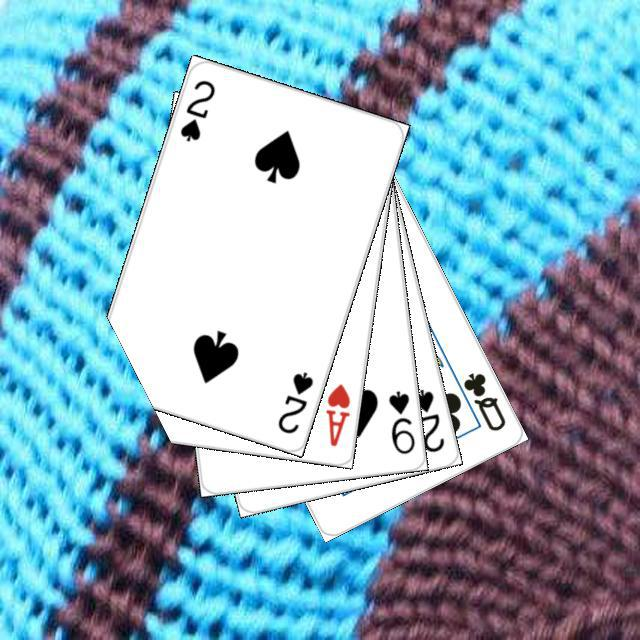2s: (272, 367, 315, 436), (175, 75, 217, 143), (408, 384, 446, 454)
9s: (383, 386, 417, 456)
Ah: (321, 378, 352, 448)
Qc: (448, 367, 508, 433)
